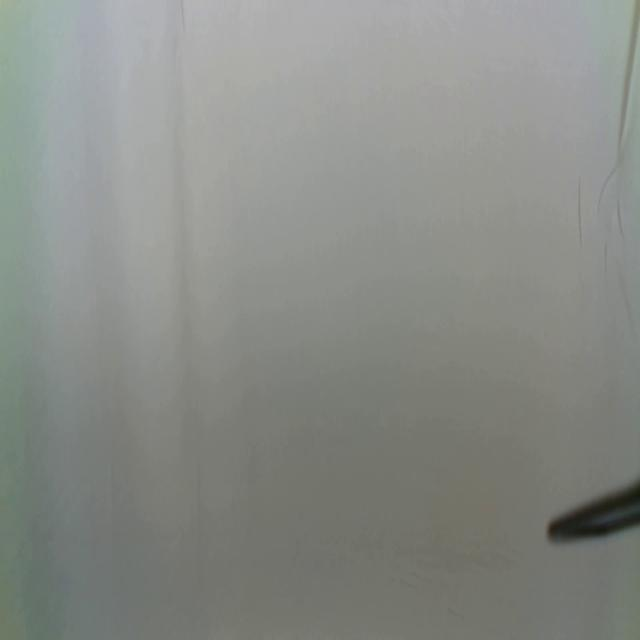crease: (617, 0, 640, 152), (596, 160, 620, 212), (576, 176, 584, 250), (616, 202, 626, 242), (603, 237, 609, 279)
